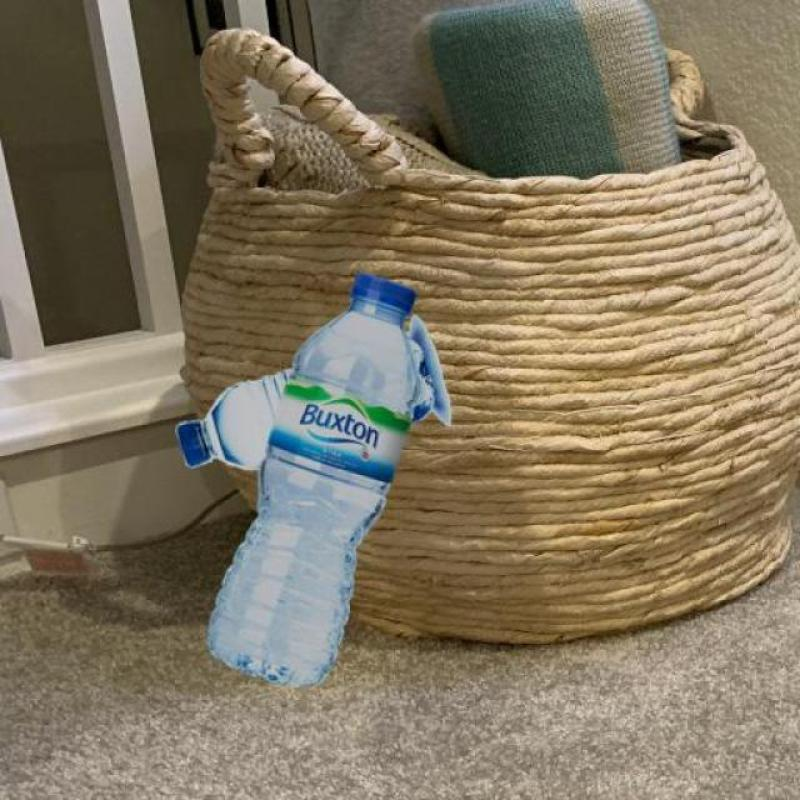botella: (206, 274, 416, 688), (176, 336, 436, 469)
